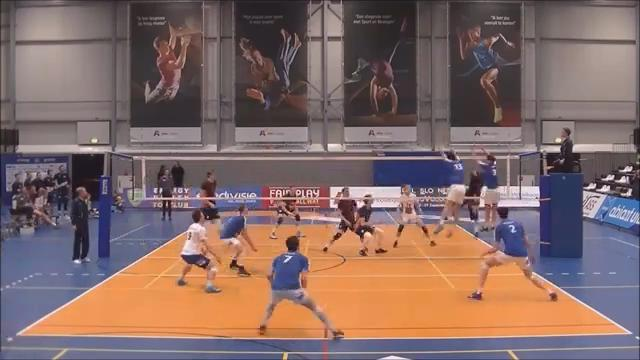attacco: (464, 166, 485, 240)
muro: (468, 142, 503, 235), (433, 142, 461, 239)
